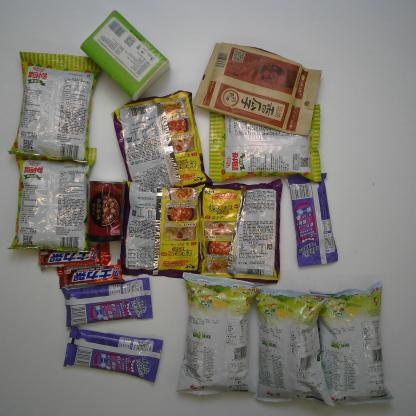Candy: (62, 324, 165, 386), (284, 171, 342, 270), (60, 276, 157, 330)
Canned Food: (84, 178, 128, 243)
Chocolate: (35, 240, 114, 272), (55, 258, 129, 292)
Dried Food: (192, 38, 324, 139)
Instant Noodles: (108, 88, 214, 200), (195, 176, 284, 287), (118, 176, 206, 281)
Puffed Food: (174, 267, 263, 398), (6, 49, 102, 167), (250, 282, 338, 410), (307, 280, 395, 407), (5, 143, 99, 255), (205, 101, 327, 186)
Tissue: (77, 8, 174, 105)
